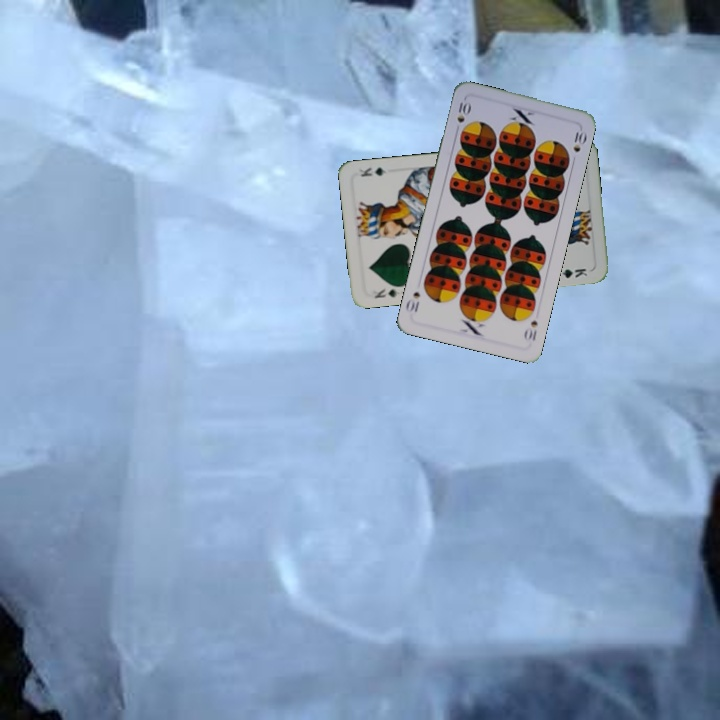GK: (371, 284, 402, 301)
S10: (453, 95, 473, 135), (520, 317, 540, 344)
